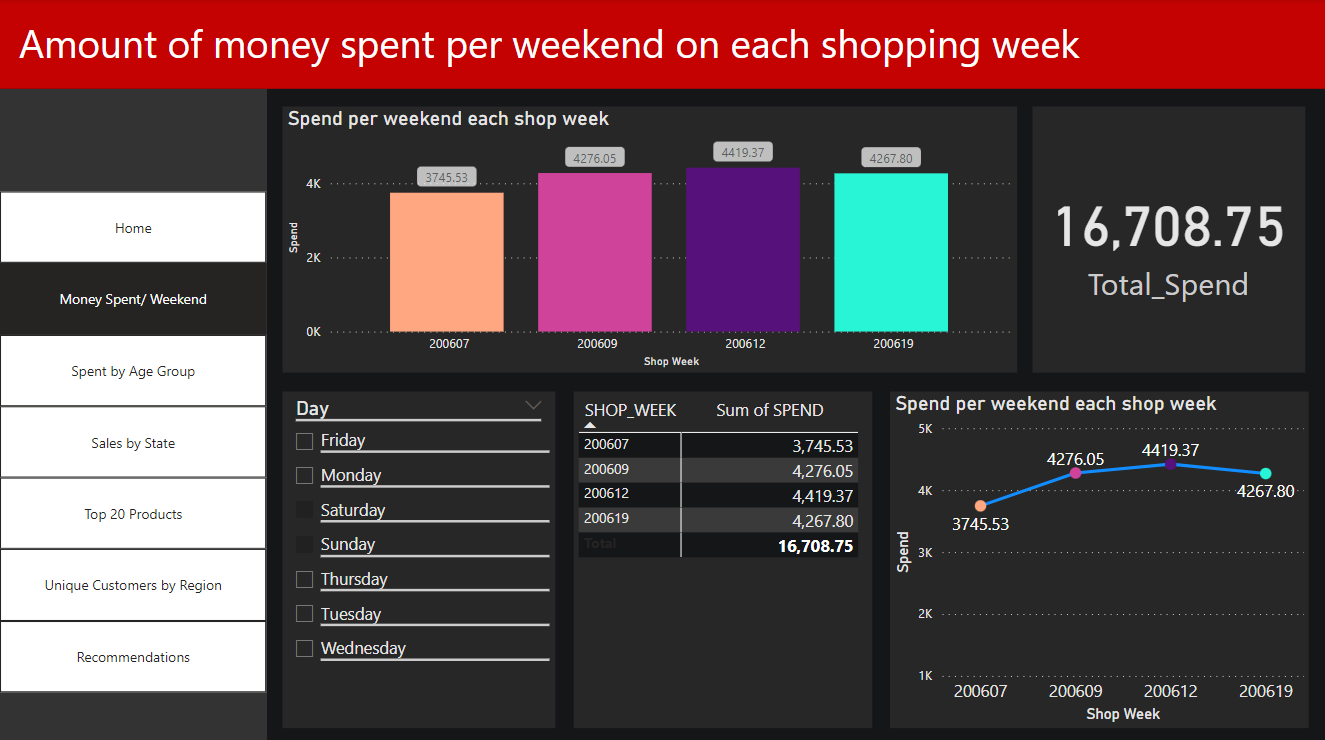

Layout of this report page (visuals, bound fields, positions):
{"tool":"powerbi","page":{"name":"Money Spent/ Weekend","canvas":[1280,720],"ordinal":1},"visuals":[{"type":"lineClusteredColumnComboChart","title":"Spend per weekend each shop week","fields":{"Category":["TRANSACTIONS.SHOP_WEEK"],"Y":["Sum(TRANSACTIONS.SPEND)"]},"box":[272.6,103.7,709.1,256.9],"z":0},{"type":"card","title":"Total Spend","fields":{"Values":["State_Lookup.Total_Spend"]},"box":[996.2,103.7,262.9,256.9],"z":1000},{"type":"shape","box":[0,0,1279.9,86.8],"z":2000},{"type":"shape","box":[0,86.8,257.9,633.2],"z":3000},{"type":"pageNavigator","box":[0,185.8,257.9,485.3],"z":4000},{"type":"slicer","fields":{"Values":["TRANSACTIONS.Day"]},"box":[272.6,378.7,262.9,324.4],"z":5000},{"type":"textbox","box":[13.3,12.1,1245.8,74.8],"z":6000},{"type":"pivotTable","fields":{"Rows":["TRANSACTIONS.SHOP_WEEK"],"Values":["Sum(TRANSACTIONS.SPEND)"]},"box":[553.6,378.7,288.2,324.4],"z":7000},{"type":"lineChart","title":"Spend per weekend each shop week","fields":{"Category":["TRANSACTIONS.SHOP_WEEK"],"Y":["Sum(TRANSACTIONS.SPEND)"]},"box":[858.7,378.7,404,324.4],"z":8000}]}

Visuals, with their boxes in screenshot pixels (x1, y1, x2, y2), scaled from the page's 1280x720 canvas onto the 1325x740 screenshot:
"Spend per weekend each shop week" lineClusteredColumnComboChart: x1=282 y1=107 x2=1016 y2=371
"Total Spend" card: x1=1031 y1=107 x2=1303 y2=371
shape: x1=0 y1=0 x2=1324 y2=89
shape: x1=0 y1=89 x2=267 y2=739
pageNavigator: x1=0 y1=191 x2=267 y2=690
slicer - TRANSACTIONS.Day: x1=282 y1=389 x2=554 y2=723
textbox: x1=14 y1=12 x2=1303 y2=89
pivotTable - TRANSACTIONS.SHOP_WEEK x Sum(TRANSACTIONS.SPEND): x1=573 y1=389 x2=871 y2=723
"Spend per weekend each shop week" lineChart: x1=889 y1=389 x2=1307 y2=723
